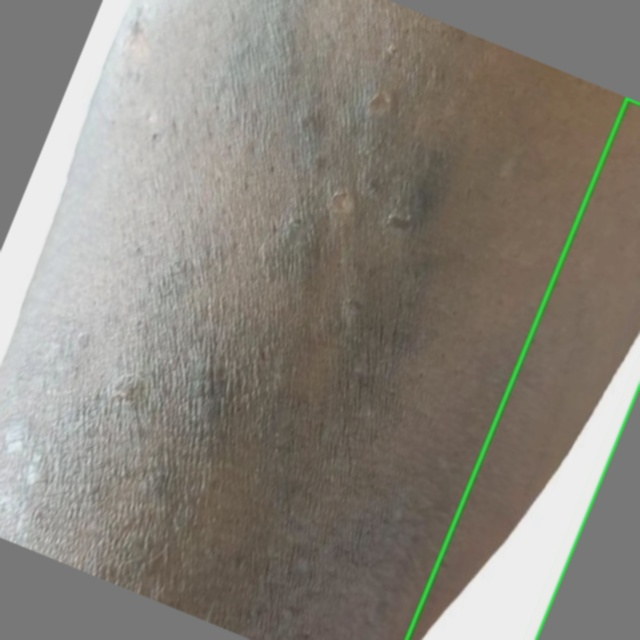Contact Dermatitis: (406, 98, 639, 639)
